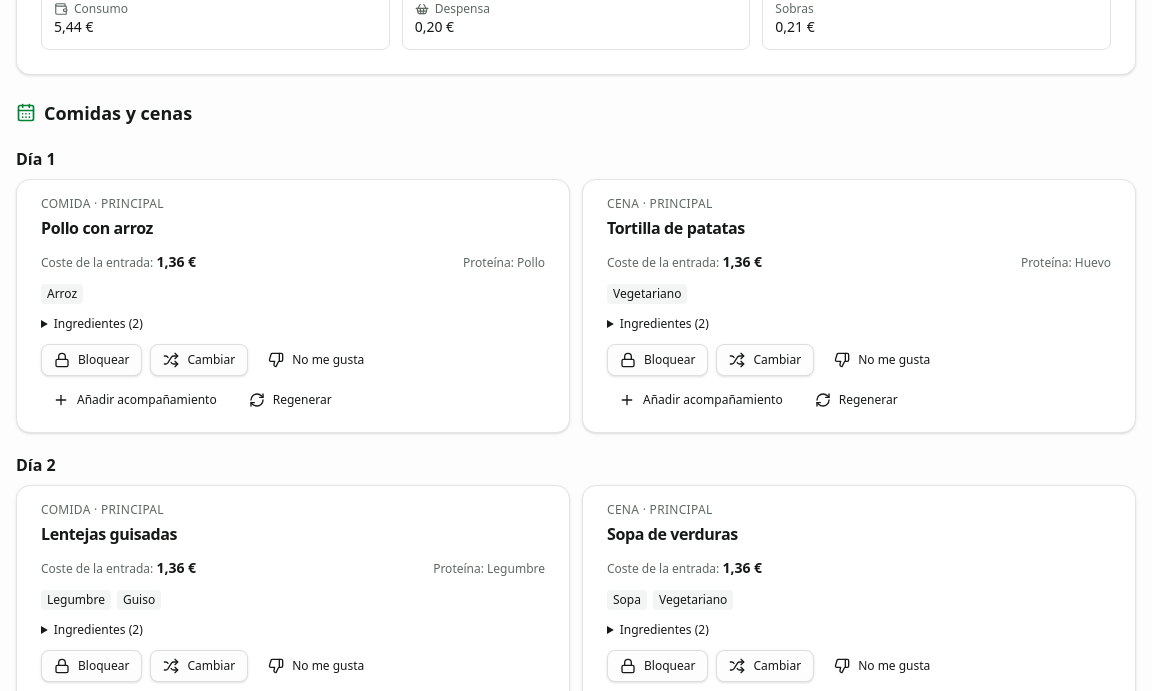
Scenario: MenuDetailPage › cambia un plato por otro elegible del hueco
(page scrolled)
Click the button with aria-label "Cambiar Tortilla de patatas" at (765, 360), box [716, 344, 814, 376]
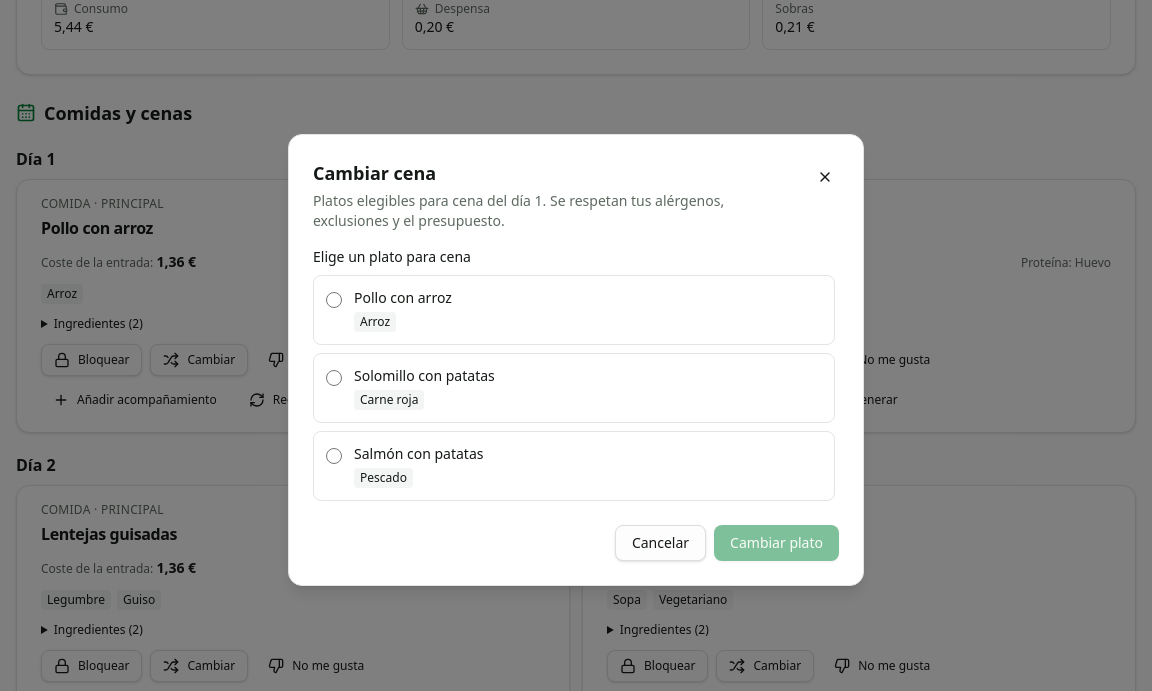
Click the radio button labelled "Salmón con patatas Pescado" at (334, 456), box [326, 448, 342, 464]
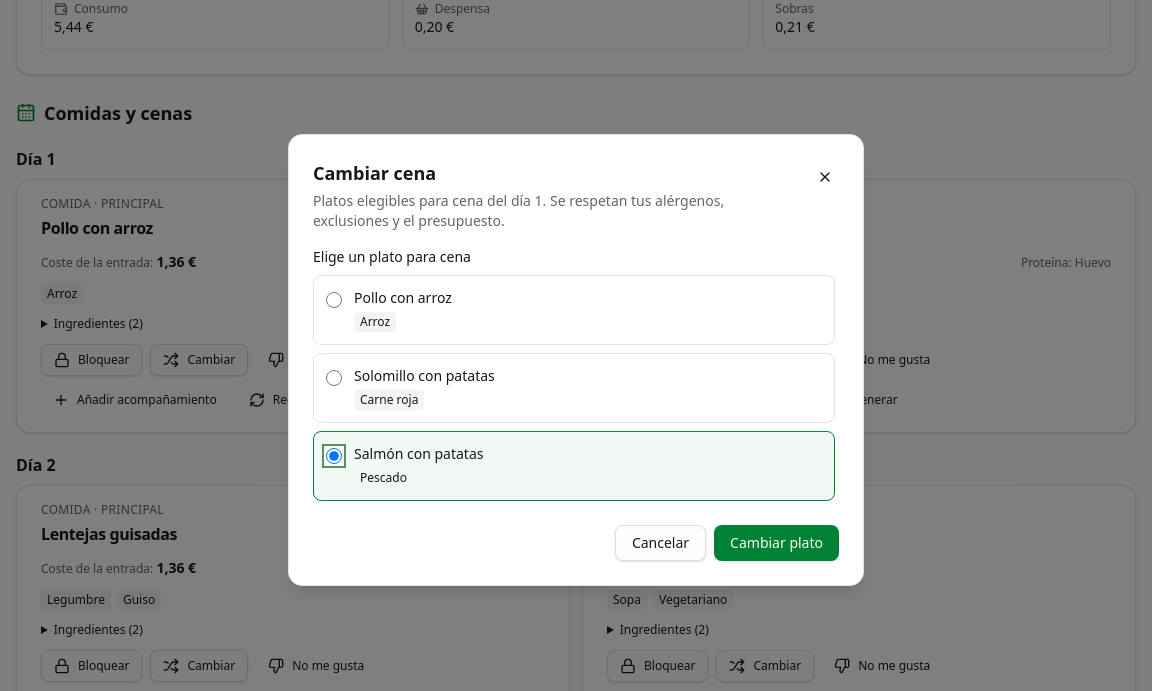
Click the button "Cambiar plato" at (777, 543), box [714, 525, 839, 561]
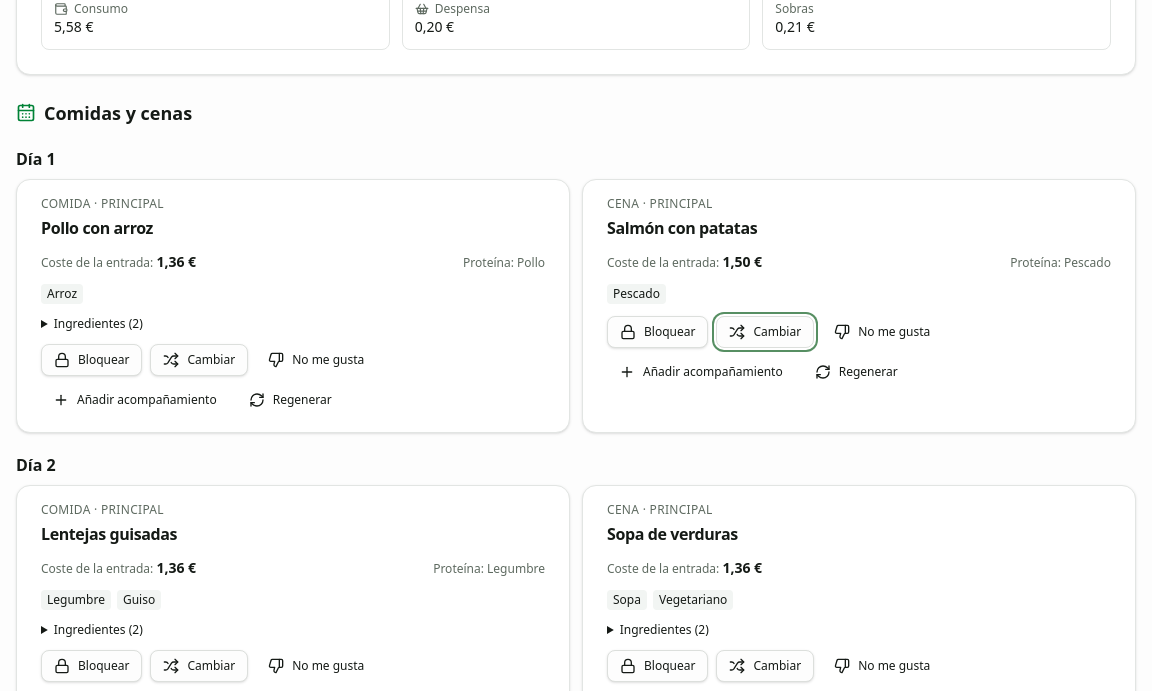
Expected: the number of headings "Salmón con patatas" is 1, [607, 216, 757, 240]
Expected: the heading "Tortilla de patatas" is gone
Expected: the dialog is gone
